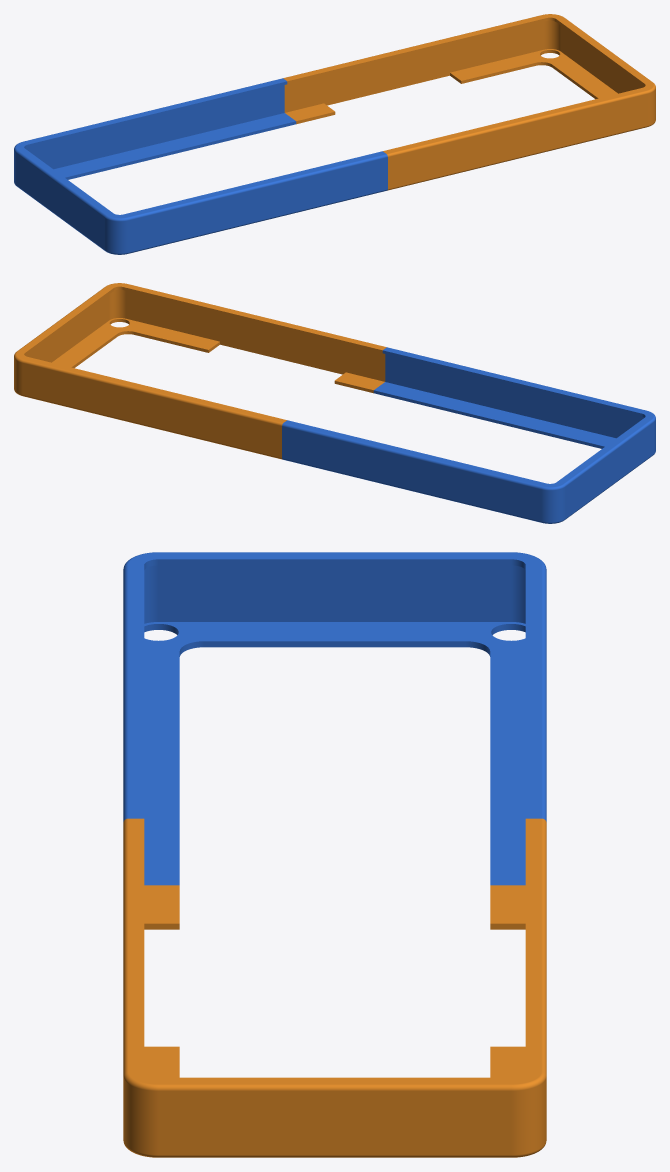
Rendered from coque_xeneon.glb.
The picture shows the model from 3 angles, top to bottom: view 1: azimuth 30°, elevation 25°; view 2: azimuth 150°, elevation 25°; view 3: azimuth 270°, elevation 25°; orthographic projection. The views are drawn at different scales.
Parts seen in each view (by area): view 1: coque_gauche, coque_droite; view 2: coque_gauche, coque_droite; view 3: coque_gauche, coque_droite.
Boxes of the visible parts, x1,y1,x2,y2 form: coque_gauche: (14,78,387,254); coque_droite: (283,14,655,190); coque_gauche: (282,347,655,523); coque_droite: (14,283,386,459); coque_gauche: (123,552,546,885); coque_droite: (123,818,546,1157).
Bounding box in the file's own units: 0.3791 × 0.024 × 0.1265.
